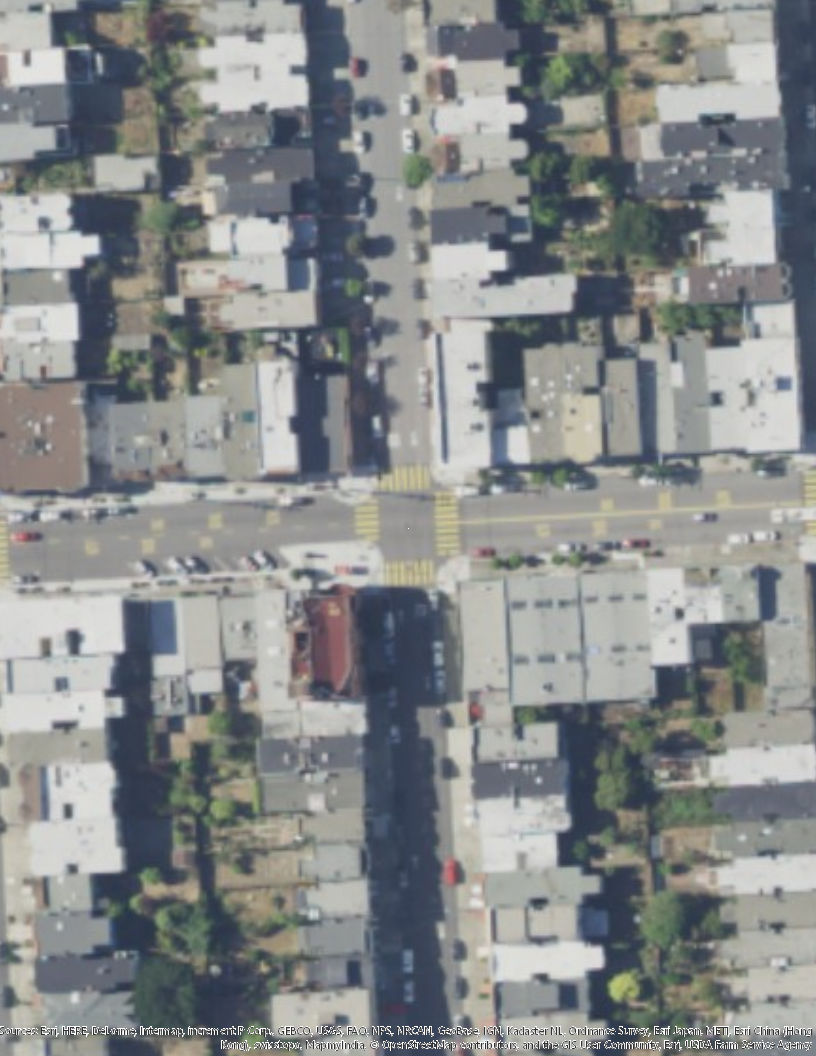zebracross: (432, 490, 463, 558), (378, 464, 436, 494), (353, 494, 382, 544), (382, 559, 432, 588), (804, 470, 816, 534)
